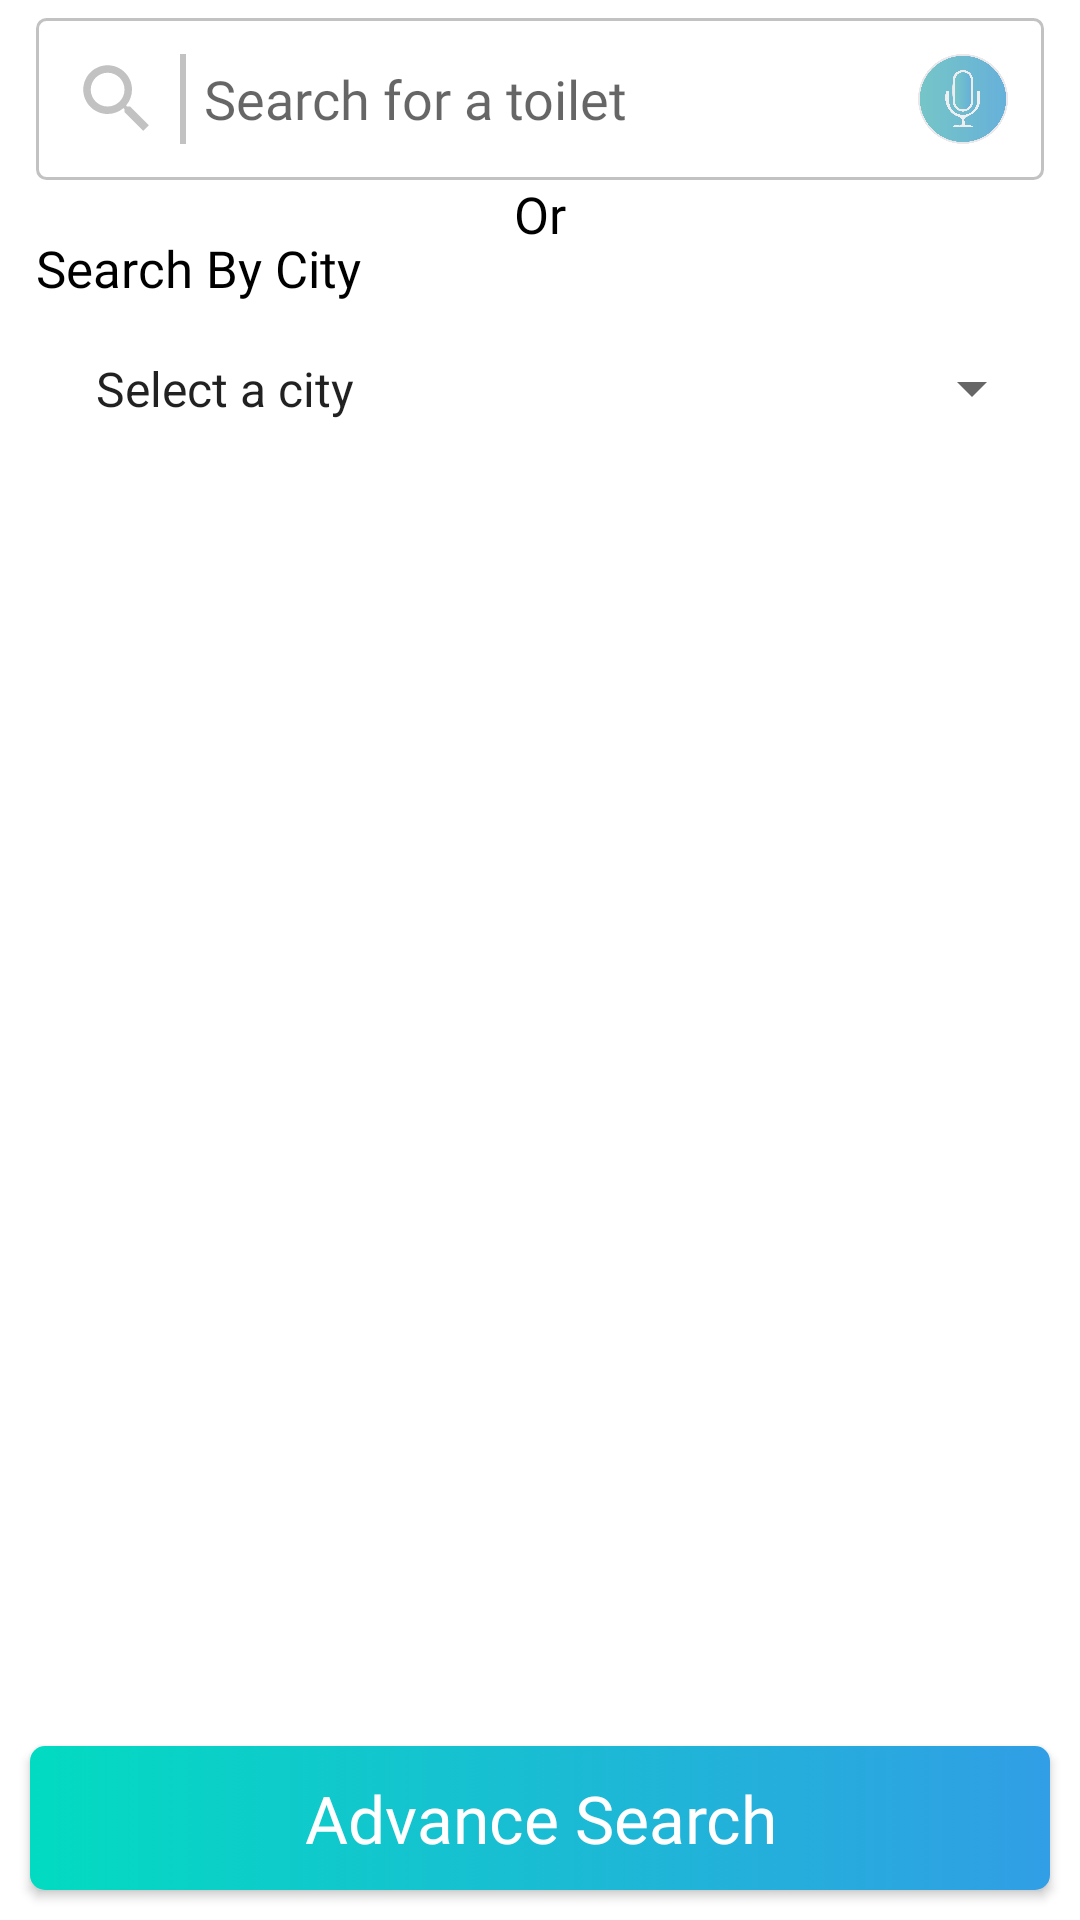

Screen size 1080 x 1920. Icon name, then its box in pixels as bbox(x1, y1, x2, y2):
speech to text: bbox(920, 56, 1006, 142)
